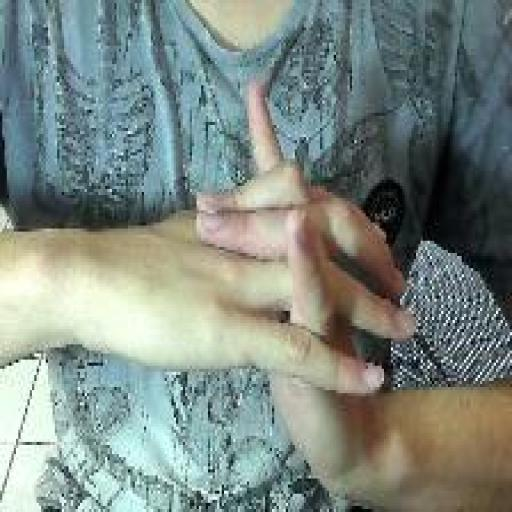Ushi -ox-: (193, 76, 420, 506)
